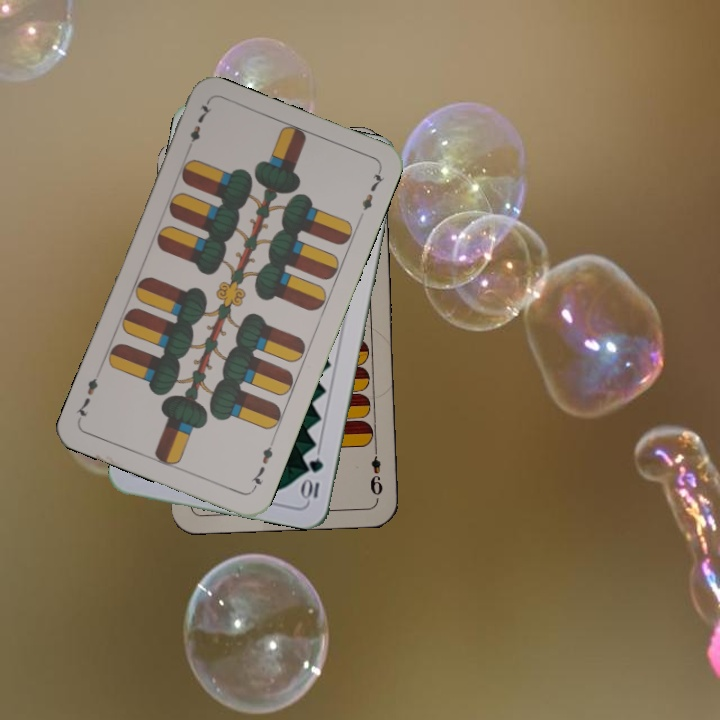E7: (246, 437, 277, 493), (184, 99, 214, 155)
E9: (366, 442, 385, 498)
G10: (299, 454, 326, 504)
